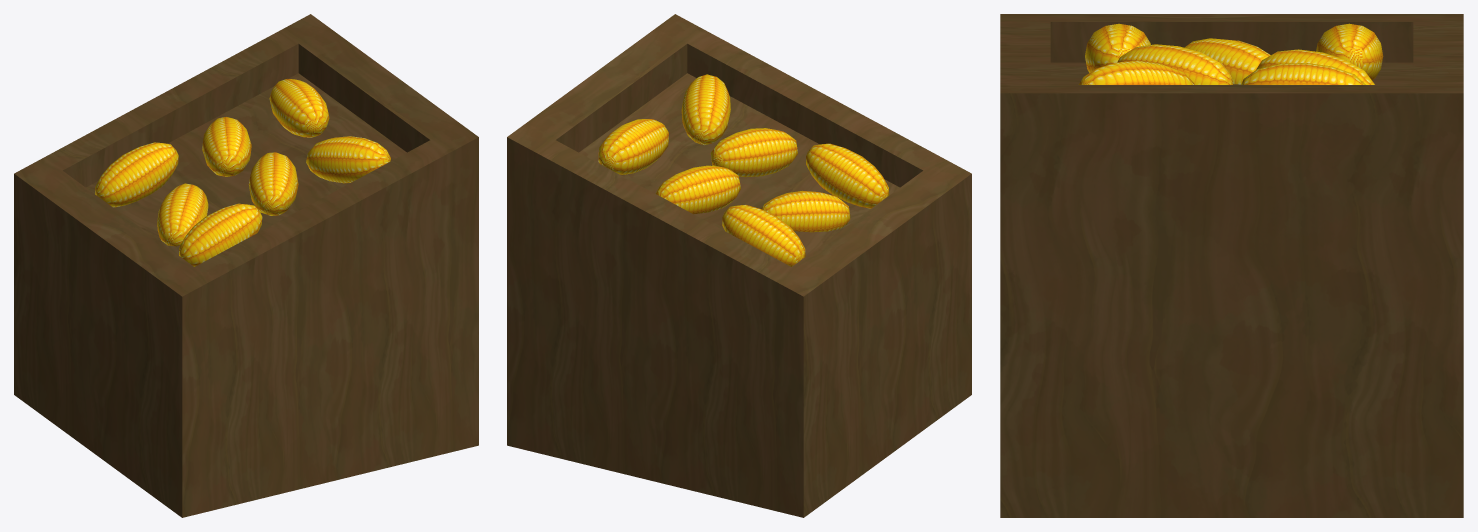
File: CHOCLO_SPAWNER_PRP.fbx
The picture shows the model from 3 angles, left to right: view 1: azimuth 30°, elevation 25°; view 2: azimuth 150°, elevation 25°; view 3: azimuth 270°, elevation 25°; orthographic projection. The views are drawn at different scales.
Visible parts, largest first — view 1: CHOCLO_SPAWNER_PRP; view 2: CHOCLO_SPAWNER_PRP; view 3: CHOCLO_SPAWNER_PRP.
Boxes of the visible parts, bbox=[...] form: CHOCLO_SPAWNER_PRP: bbox=[14, 14, 478, 517]; CHOCLO_SPAWNER_PRP: bbox=[507, 14, 971, 517]; CHOCLO_SPAWNER_PRP: bbox=[1000, 14, 1463, 517].
Bounding box in the file's own units: 47.33 × 47.02 × 46.47.
2 materials, 2 textured.
